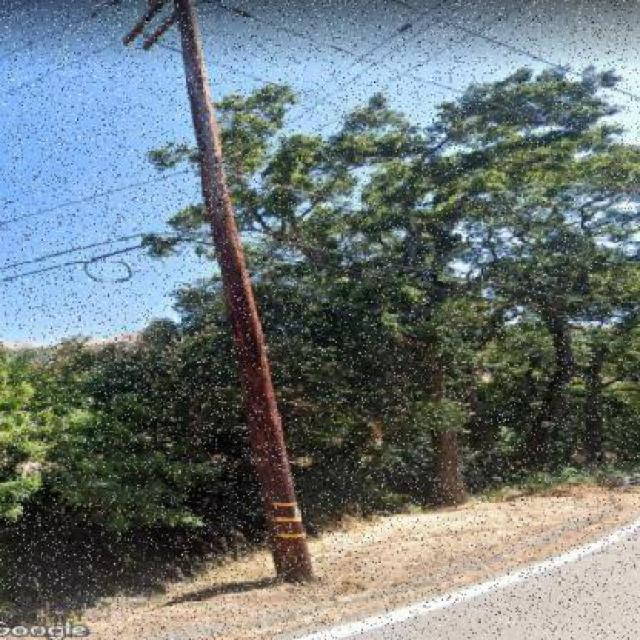pole: (57, 1, 440, 602)
